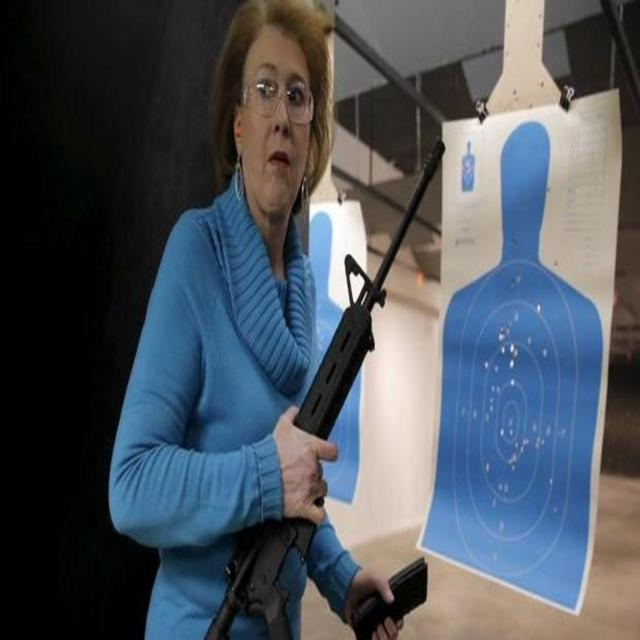weapon: (202, 135, 448, 640)
